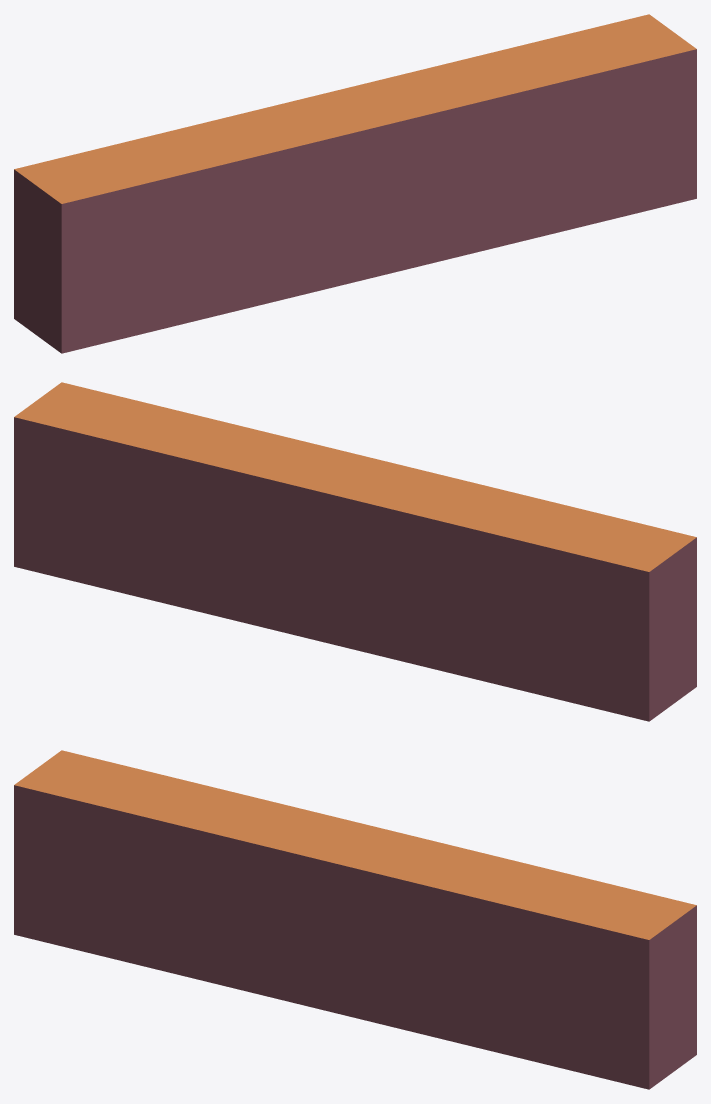
The model's file is wall.glb.
The picture shows the model from 3 angles, top to bottom: view 1: azimuth 30°, elevation 25°; view 2: azimuth 150°, elevation 25°; view 3: azimuth 330°, elevation 25°; orthographic projection.
Parts seen in each view (by area): view 1: Wall; view 2: Wall; view 3: Wall.
Boxes of the visible parts, x1,y1,x2,y2 form: Wall: (14,14,696,353); Wall: (14,382,696,721); Wall: (14,750,696,1089).
Bounding box in the file's own units: 2 × 0.45 × 0.26.
